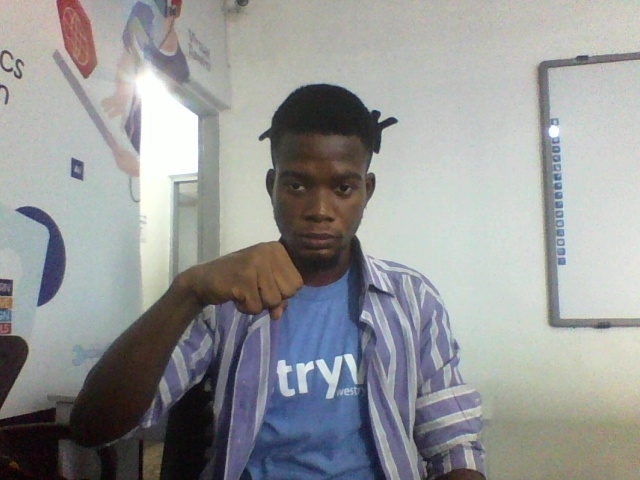yes: (173, 235, 300, 351)
